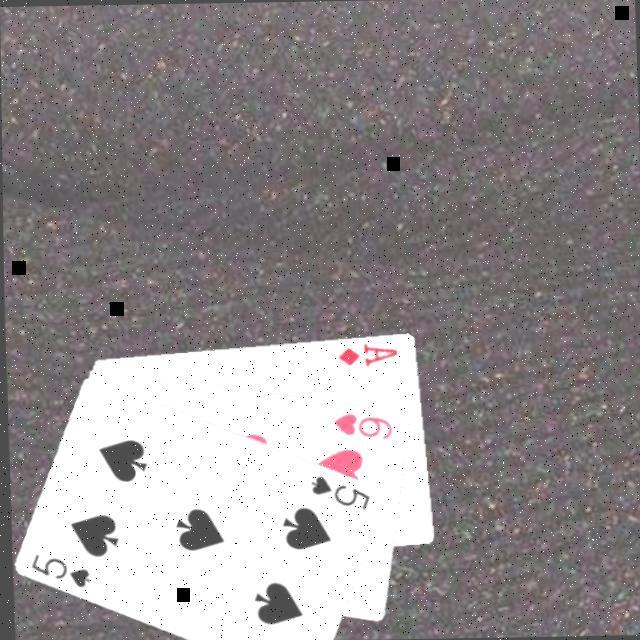5S: (307, 469, 374, 511), (27, 547, 94, 589)
6H: (332, 406, 396, 440)
AD: (335, 336, 402, 367)
